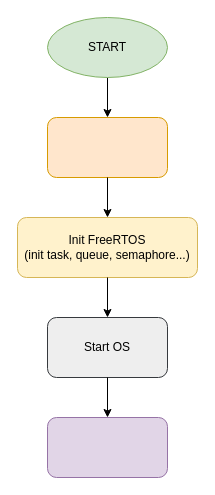
This 215x495 diagram has some shape labels left out. The centre of each missing label's shape, as x and y in pixels:
"FreeRTOS Handle Task." goes at point (107, 447).
"Init Hardware" goes at point (107, 147).
